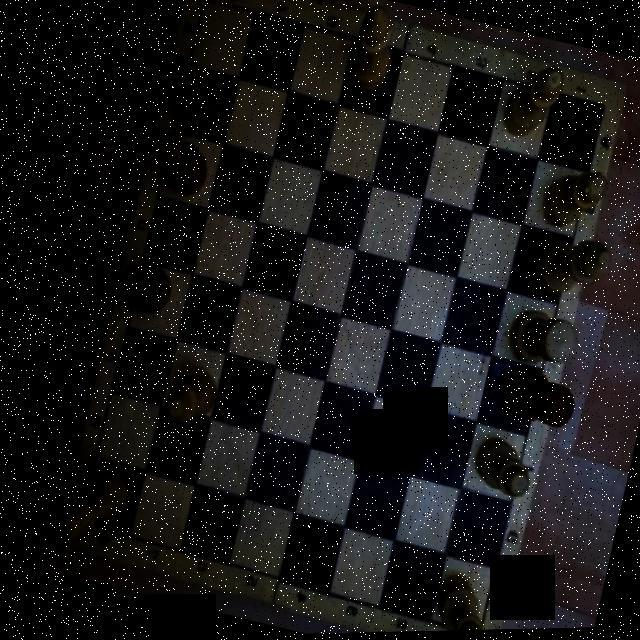chess-table-corners: (49, 482, 110, 554), (569, 72, 627, 142), (439, 594, 498, 632), (177, 0, 237, 35)
